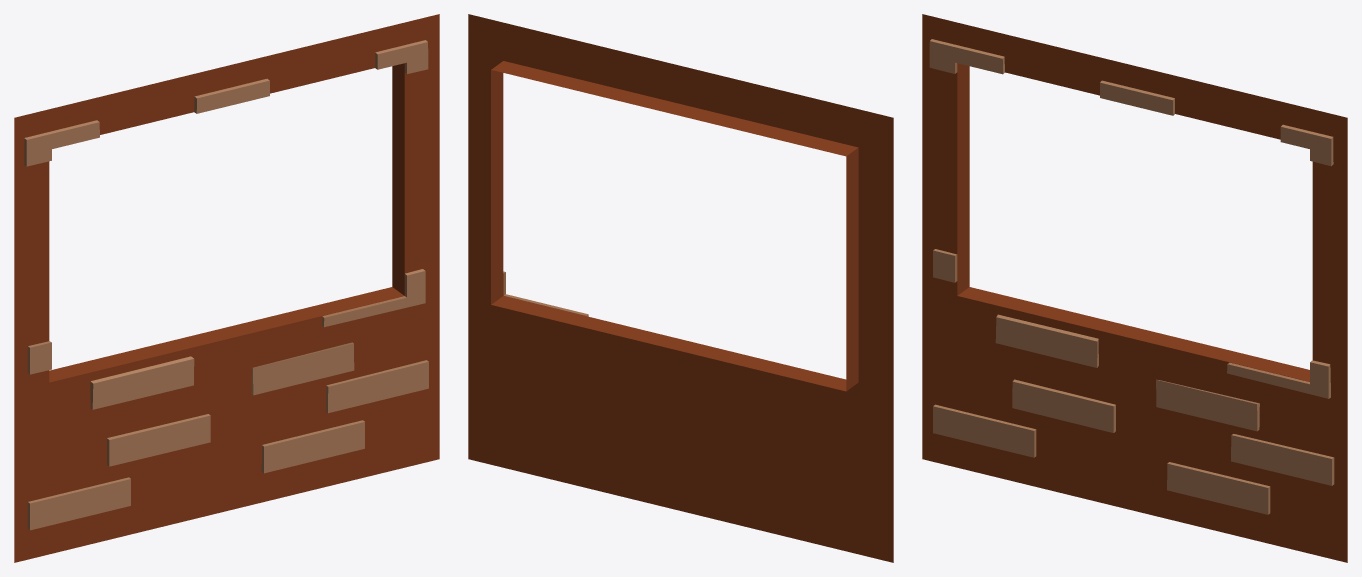
The model's file is Ext-BrickV2Windowframe.fbx.
3 renders of one model, left to right at view 1: azimuth 30°, elevation 25°; view 2: azimuth 150°, elevation 25°; view 3: azimuth 330°, elevation 25°, orthographic.
Parts seen in each view (by area): view 1: Ext-BrickV2Windowframe; view 2: Ext-BrickV2Windowframe; view 3: Ext-BrickV2Windowframe.
Part boxes in pixels (<box>): Ext-BrickV2Windowframe: <box>14,14,439,562</box>; Ext-BrickV2Windowframe: <box>468,14,893,562</box>; Ext-BrickV2Windowframe: <box>922,14,1347,562</box>.
Bounding box in the file's own units: 200 × 200 × 12.
